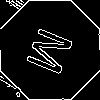M: (25, 25, 83, 81)
